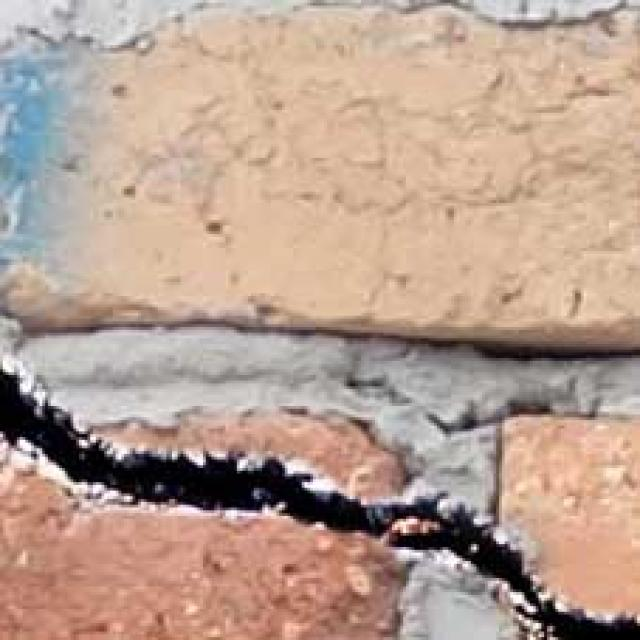Crack: (0, 304, 640, 638)
